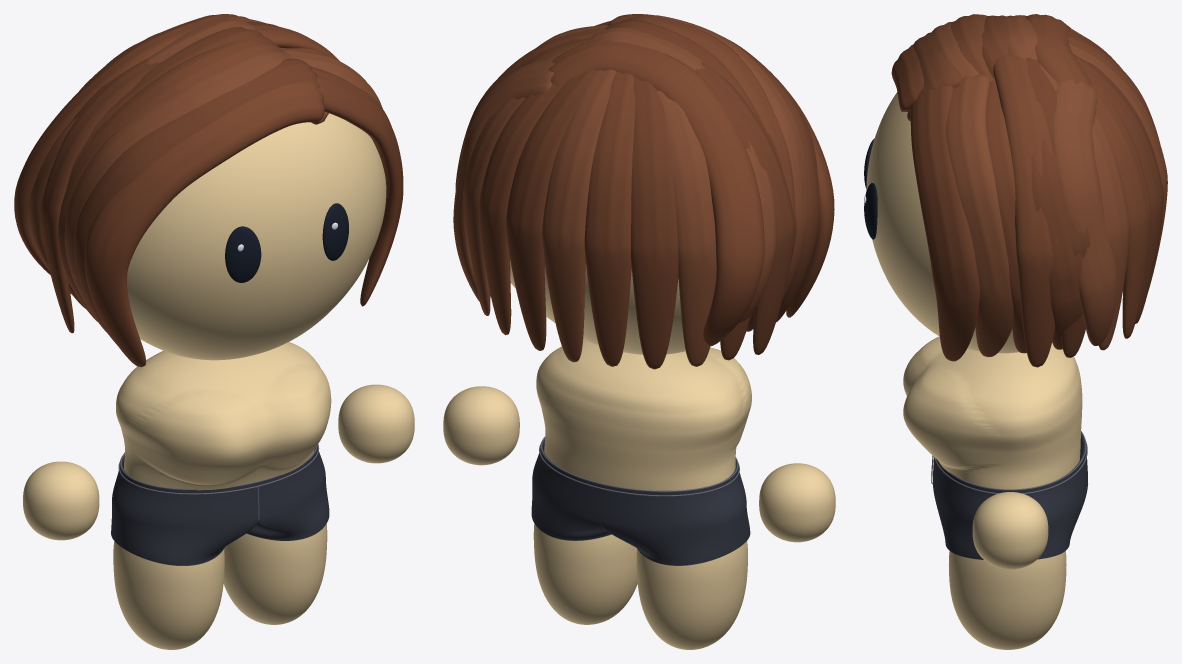
Rendered from Feminine-base.glb.
The picture shows the model from 3 angles, left to right: view 1: azimuth 30°, elevation 25°; view 2: azimuth 150°, elevation 25°; view 3: azimuth 270°, elevation 25°; orthographic projection.
Visible parts, largest first — view 1: Skin / soft oval head, Skin / rounded torso, Hair / Bob / side sweep 0, Clothing / fixed shorts, Skin / leg blob -1, Skin / leg blob 1, Hair / Bob / side sweep 1, Hair / Bob / side sweep 2, Hair / Bob / side sweep 7, Hair / Bob / side sweep 3, Hair / Bob / side sweep 22, Hair / Bob / side sweep 6 (+8 smaller); view 2: Skin / rounded torso, Hair / Bob / side sweep 6, Clothing / fixed shorts, Hair / Bob / side sweep 19, Hair / Bob / side sweep 18, Hair / Bob / side sweep 17, Hair / Bob / side sweep 16, Hair / Bob / side sweep 20, Skin / leg blob -1, Skin / leg blob 1, Hair / Bob / side sweep 15, Hair / Bob / side sweep 22 (+14 smaller); view 3: Skin / rounded torso, Hair / Bob / side sweep 7, Hair / Bob / side sweep 8, Hair / Bob / side sweep 12, Skin / soft oval head, Hair / Bob / side sweep 11, Skin / leg blob 1, Clothing / fixed shorts, Hair / Bob / side sweep 15, Hair / Bob / side sweep 10, Skin / orb hand 1, Hair / Bob / side sweep 9 (+13 smaller).
Part boxes in pixels (x1,y1,x2,y2): Skin / soft oval head: (127,113,386,360); Skin / rounded torso: (116,342,331,490); Hair / Bob / side sweep 0: (84,82,328,367); Clothing / fixed shorts: (111,444,329,565); Skin / leg blob -1: (113,541,224,649); Skin / leg blob 1: (223,524,327,624); Hair / Bob / side sweep 1: (74,58,319,345); Hair / Bob / side sweep 2: (64,51,291,332); Hair / Bob / side sweep 7: (311,67,403,306); Hair / Bob / side sweep 3: (58,39,282,321); Hair / Bob / side sweep 22: (40,58,160,333); Hair / Bob / side sweep 6: (14,14,254,275); Skin / rounded torso: (536,339,751,490); Hair / Bob / side sweep 6: (548,39,764,346); Clothing / fixed shorts: (531,439,750,565); Hair / Bob / side sweep 19: (631,77,678,369); Hair / Bob / side sweep 18: (584,71,635,366); Hair / Bob / side sweep 17: (542,69,615,362); Hair / Bob / side sweep 16: (506,70,596,350); Hair / Bob / side sweep 20: (657,90,716,366); Skin / leg blob -1: (636,541,747,649); Skin / leg blob 1: (533,524,637,624); Hair / Bob / side sweep 15: (479,82,566,335); Hair / Bob / side sweep 22: (694,61,794,354); Skin / rounded torso: (903,336,1082,489); Hair / Bob / side sweep 7: (910,85,979,361); Hair / Bob / side sweep 8: (945,74,1013,357); Hair / Bob / side sweep 12: (993,53,1057,367); Skin / soft oval head: (866,92,1052,353); Hair / Bob / side sweep 11: (1053,79,1116,345); Skin / leg blob 1: (949,551,1066,649); Clothing / fixed shorts: (932,433,1087,559); Hair / Bob / side sweep 15: (1087,75,1150,338); Hair / Bob / side sweep 10: (1031,137,1082,349); Skin / orb hand 1: (972,492,1048,569); Hair / Bob / side sweep 9: (986,78,1026,353).
Bounding box in the file's own units: 1.23 × 1.86 × 0.8643.
